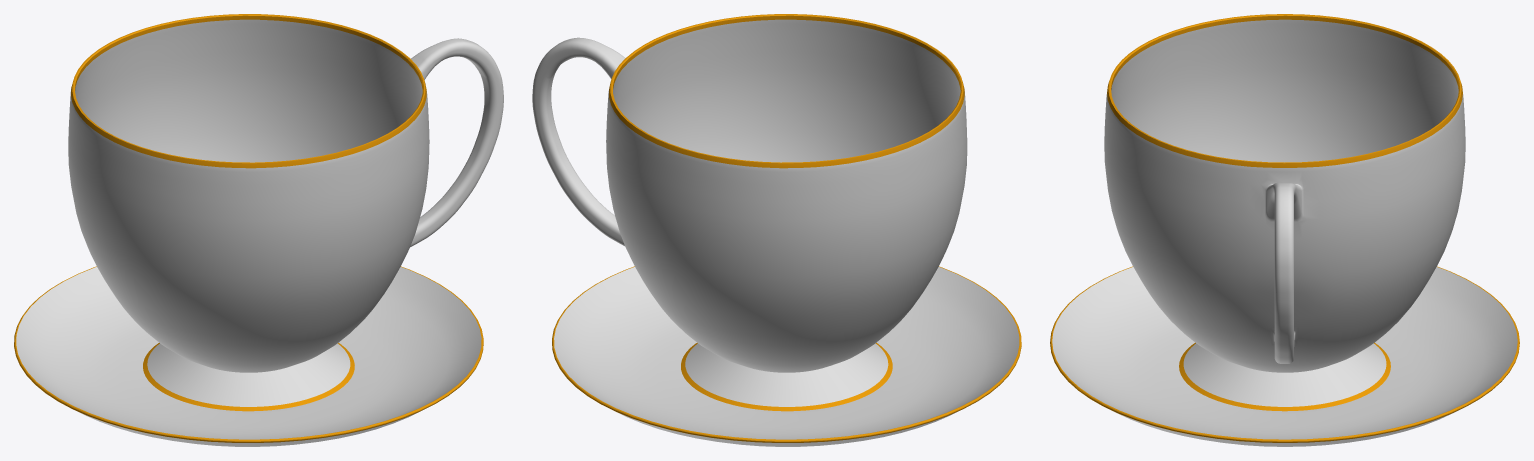
Rendered from Cup_Normal.fbx.
3 views of the same model, side by side, from view 1: azimuth 30°, elevation 25°; view 2: azimuth 150°, elevation 25°; view 3: azimuth 270°, elevation 25° (orthographic).
Parts seen in each view (by area): view 1: Cup 1, Plate 2; view 2: Cup 1, Plate 2; view 3: Cup 1, Plate 2.
Boxes of the visible parts, bbox=[...] form: Cup 1: bbox=[68, 14, 503, 411]; Plate 2: bbox=[14, 266, 483, 446]; Cup 1: bbox=[532, 14, 967, 411]; Plate 2: bbox=[552, 266, 1021, 446]; Cup 1: bbox=[1104, 14, 1465, 411]; Plate 2: bbox=[1050, 266, 1519, 446].
Size of the model in its own units: 112 by 69.01 by 100.
